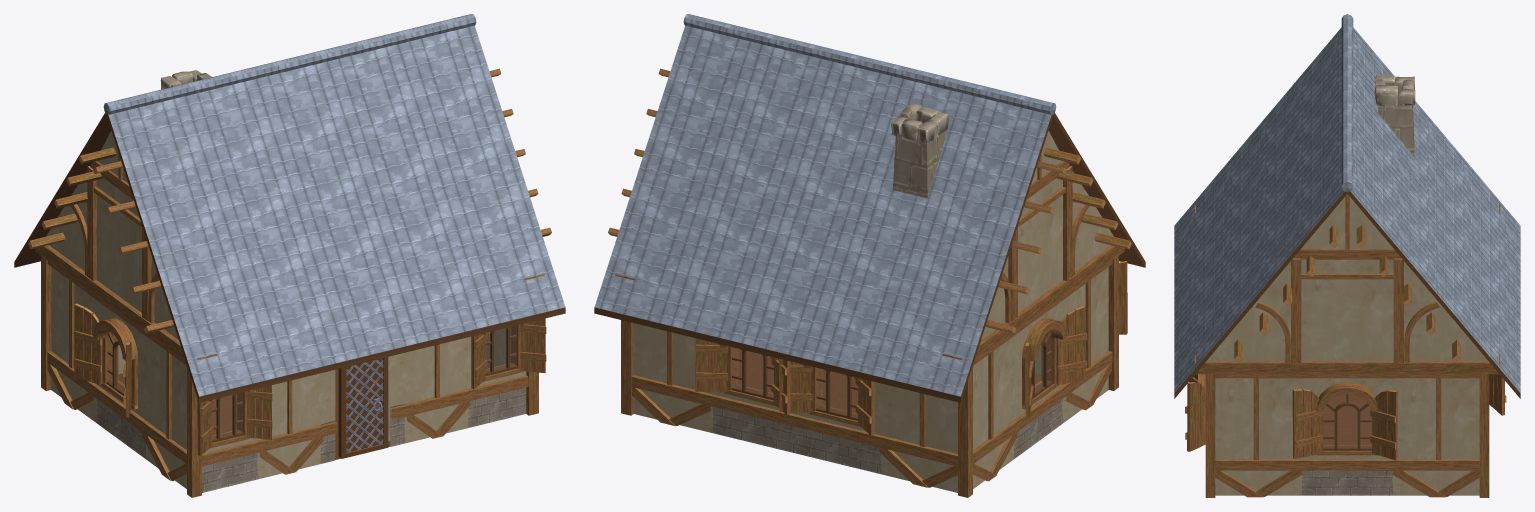
File: house.glb
The picture shows the model from 3 angles, left to right: view 1: azimuth 30°, elevation 25°; view 2: azimuth 150°, elevation 25°; view 3: azimuth 270°, elevation 25°; orthographic projection. The views are drawn at different scales.
Visible parts, largest first — view 1: Wall_Plaster_Door_Round.001; view 2: Wall_Plaster_Door_Round.001; view 3: Wall_Plaster_Door_Round.001.
Boxes of the visible parts, bbox=[...] form: Wall_Plaster_Door_Round.001: bbox=[14, 14, 565, 497]; Wall_Plaster_Door_Round.001: bbox=[594, 14, 1145, 497]; Wall_Plaster_Door_Round.001: bbox=[1174, 14, 1520, 497].
Bounding box in the file's own units: 9.3 × 7.52 × 7.37.
Materials: 21 (20 with a texture image).
